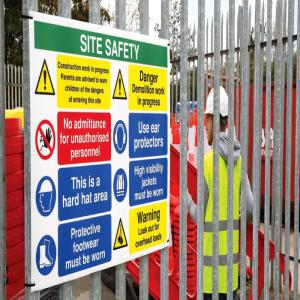white: (206, 88, 230, 147)
